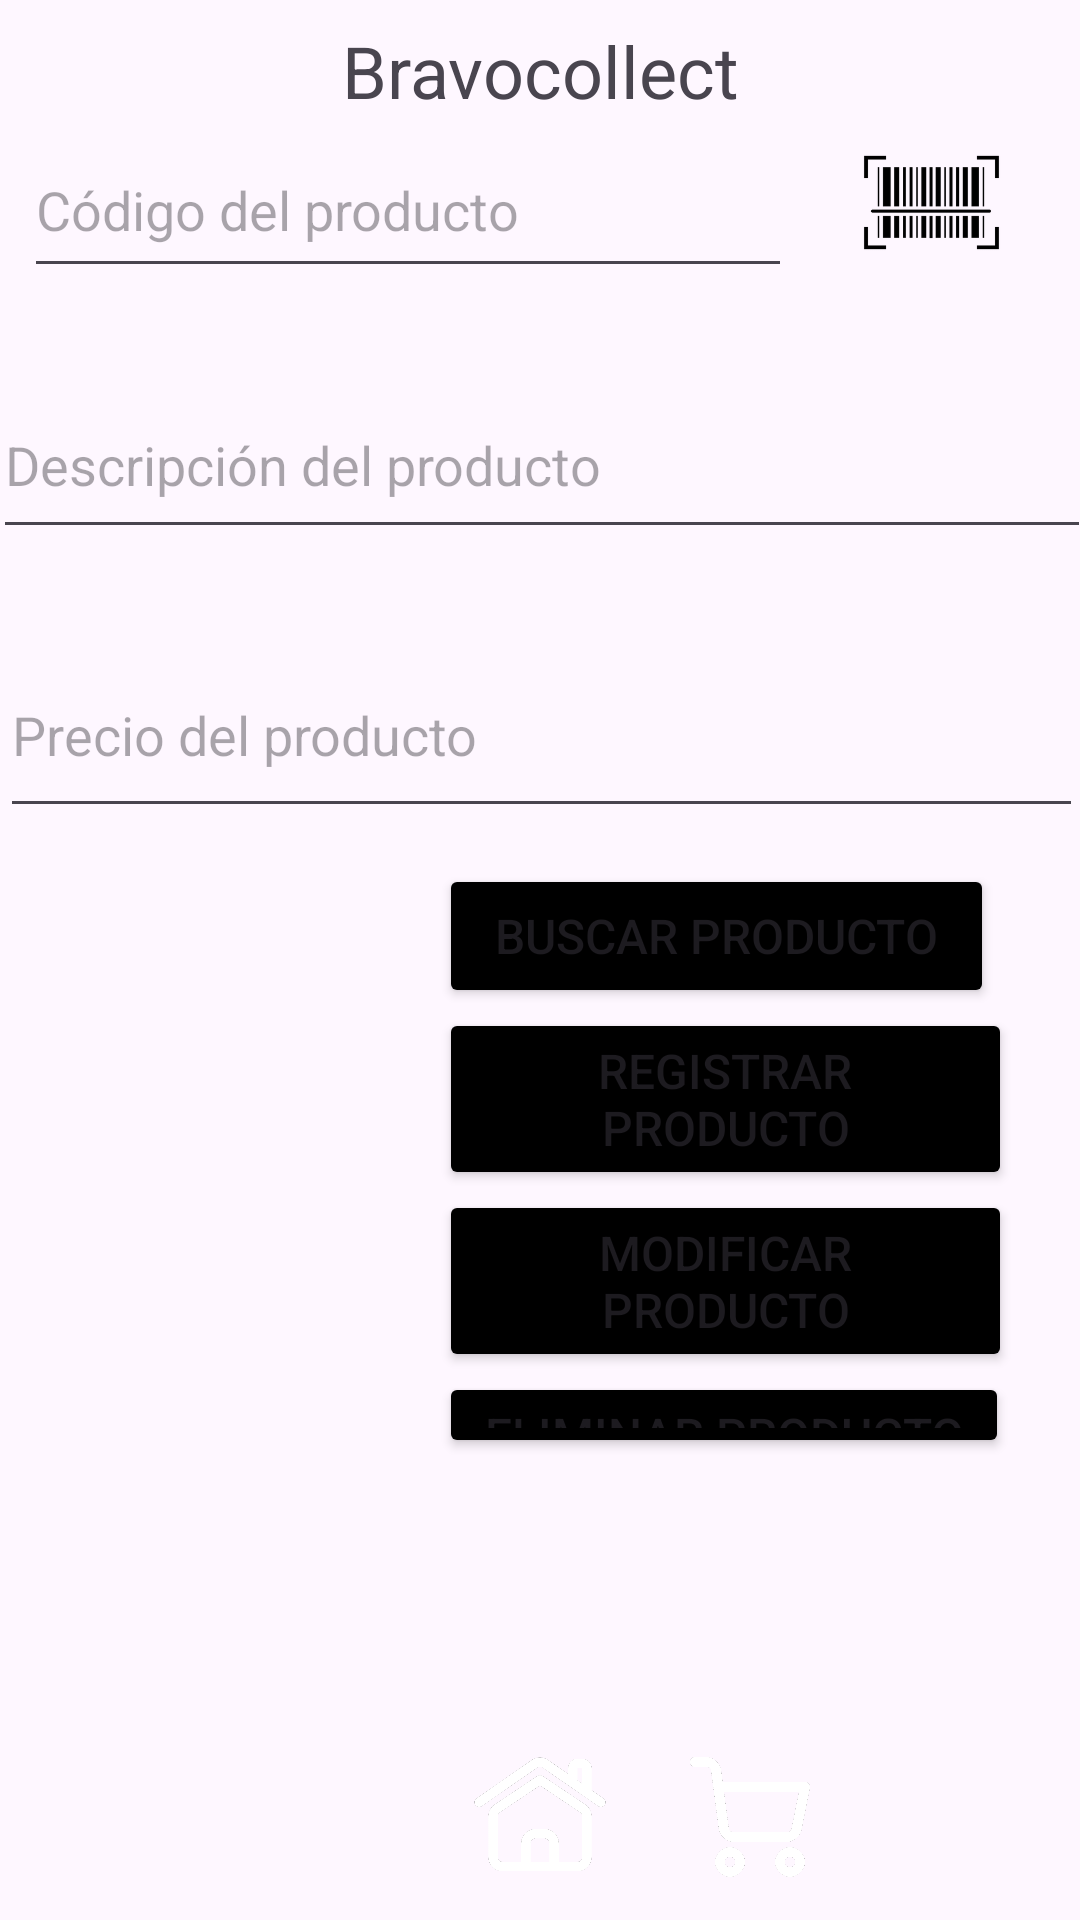

Named icons in this screenshot (1080*1920) and their centers, [x,y]:
barras: [931,202]
carrito: [750,1812]
home: [540,1811]
